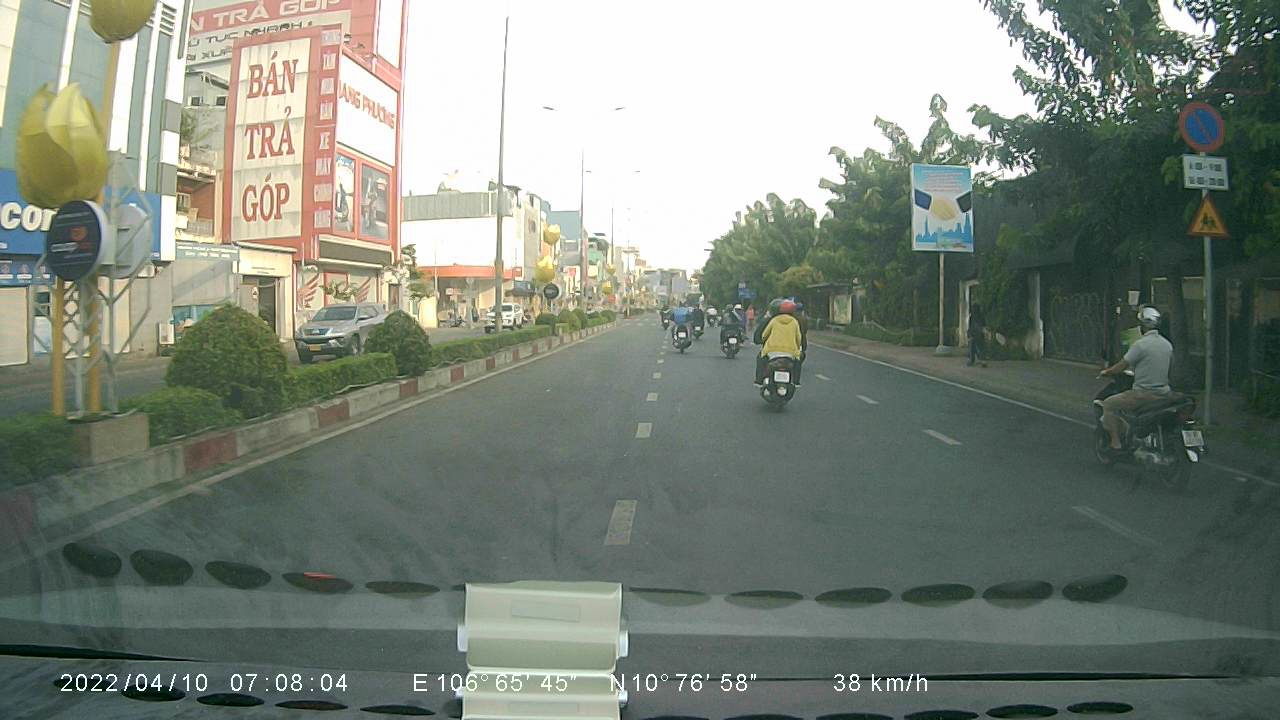Bien khac: (1180, 192, 1232, 239)
Cam do xe: (1174, 97, 1232, 154)
